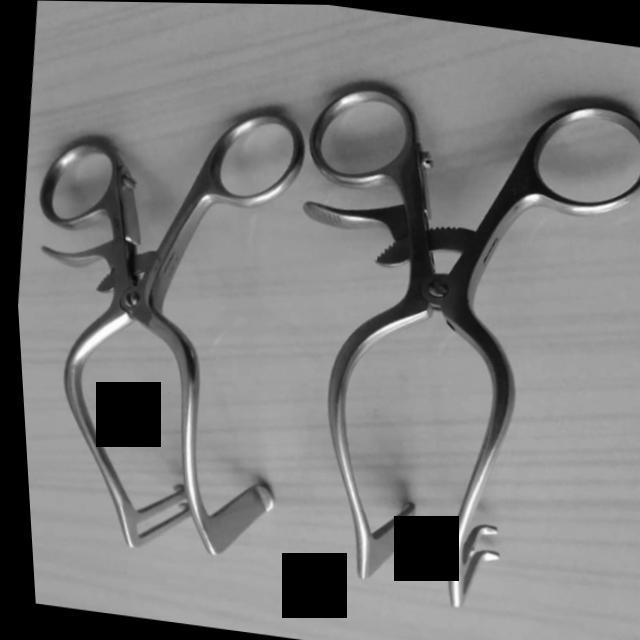Self Retractor: (243, 36, 640, 634), (4, 74, 328, 586)
